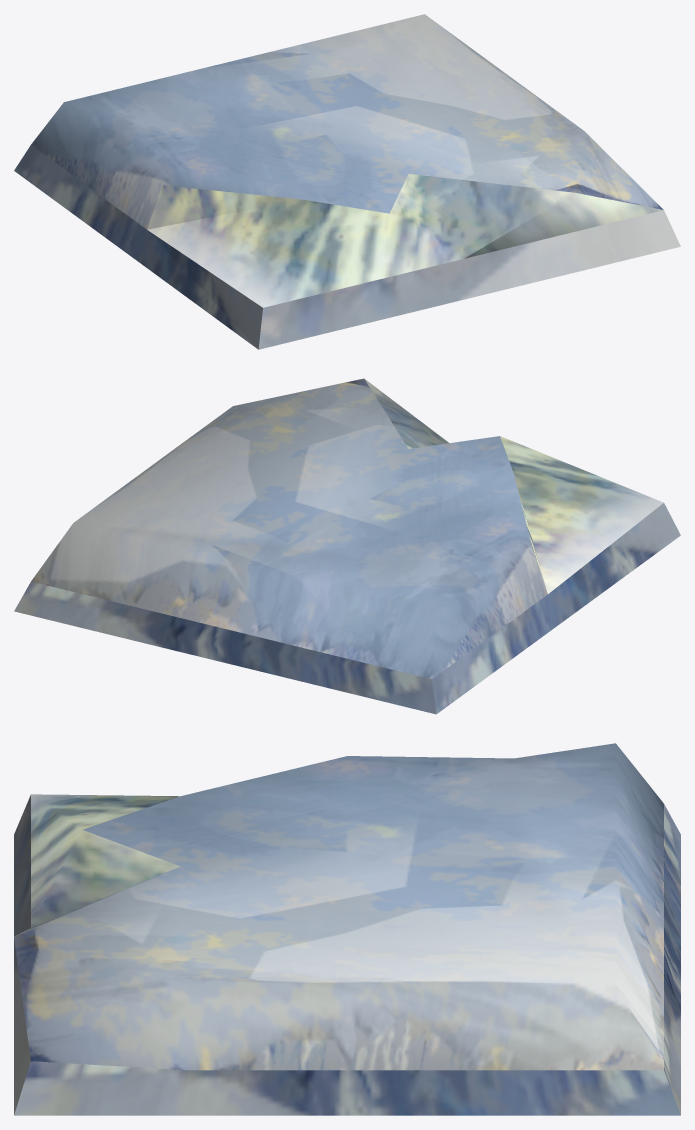
Rendered from Blue_MD_Addsquare.fbx.
3 renders of one model, top to bottom at view 1: azimuth 30°, elevation 25°; view 2: azimuth 150°, elevation 25°; view 3: azimuth 270°, elevation 25°, orthographic. The views are drawn at different scales.
Visible parts, largest first — view 1: Blue_MD_AddSquare; view 2: Blue_MD_AddSquare; view 3: Blue_MD_AddSquare.
Boxes of the visible parts, x1,y1,x2,y2 form: Blue_MD_AddSquare: [14, 14, 680, 349]; Blue_MD_AddSquare: [14, 378, 680, 714]; Blue_MD_AddSquare: [14, 743, 680, 1115].
Bounding box in the file's own units: 0.718 × 0.1295 × 0.72.
